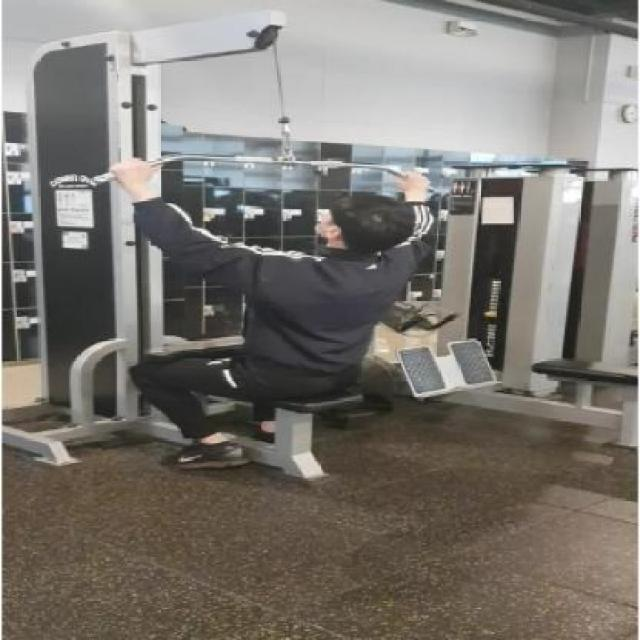Lat Pull Down: (0, 3, 525, 555)
